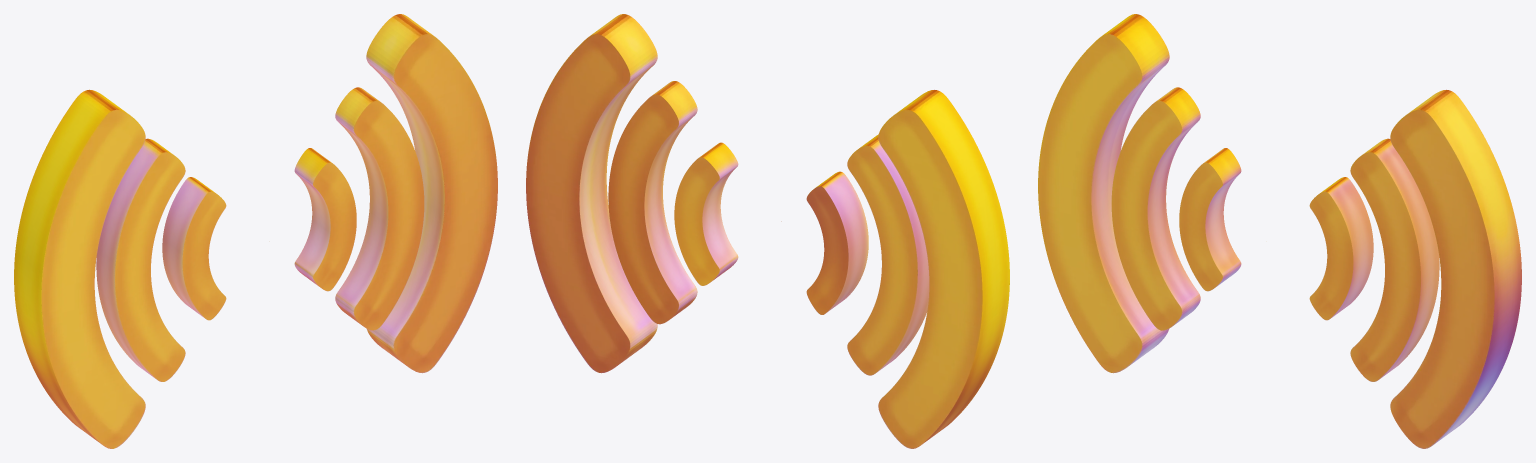
Rendered from INCONOGRAPHY_smartTech_v4.glb.
3 renders of one model, left to right at view 1: azimuth 30°, elevation 25°; view 2: azimuth 150°, elevation 25°; view 3: azimuth 330°, elevation 25°, orthographic.
Parts seen in each view (by area): view 1: wifi_6, wifi_3, wifi_1, wifi_5, wifi_4, wifi_2; view 2: wifi_6, wifi_3, wifi_1, wifi_5, wifi_2, wifi_4; view 3: wifi_3, wifi_6, wifi_5, wifi_1, wifi_2, wifi_4.
Part boxes in pixels (bbox=[...]): wifi_6: bbox=[14, 89, 145, 448]; wifi_3: bbox=[366, 14, 497, 373]; wifi_1: bbox=[335, 87, 424, 330]; wifi_5: bbox=[96, 138, 185, 381]; wifi_4: bbox=[162, 177, 226, 320]; wifi_2: bbox=[294, 148, 356, 291]; wifi_6: bbox=[878, 89, 1009, 448]; wifi_3: bbox=[526, 14, 657, 373]; wifi_1: bbox=[608, 81, 697, 324]; wifi_5: bbox=[847, 134, 929, 375]; wifi_2: bbox=[674, 142, 738, 285]; wifi_4: bbox=[806, 171, 868, 314]; wifi_3: bbox=[1390, 89, 1521, 448]; wifi_6: bbox=[1038, 14, 1169, 373]; wifi_5: bbox=[1111, 87, 1200, 330]; wifi_1: bbox=[1350, 138, 1439, 381]; wifi_2: bbox=[1309, 177, 1373, 320]; wifi_4: bbox=[1179, 148, 1241, 291].
Size of the model in its own units: 0.739 by 0.5236 by 0.077.
8 materials, 8 textured.
